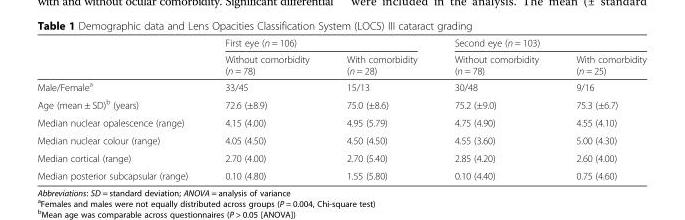table: (36, 36, 646, 181)
table column: (36, 36, 205, 181), (205, 36, 327, 181), (435, 36, 556, 181), (327, 36, 435, 181), (556, 36, 646, 181)
table column header: (36, 36, 646, 77)
table row: (36, 50, 646, 77), (36, 77, 646, 95), (36, 95, 646, 113), (36, 113, 646, 131), (36, 148, 646, 166), (36, 131, 646, 148), (36, 166, 646, 181), (36, 36, 646, 50)
table spanning cell: (205, 36, 435, 50), (435, 36, 646, 50)
